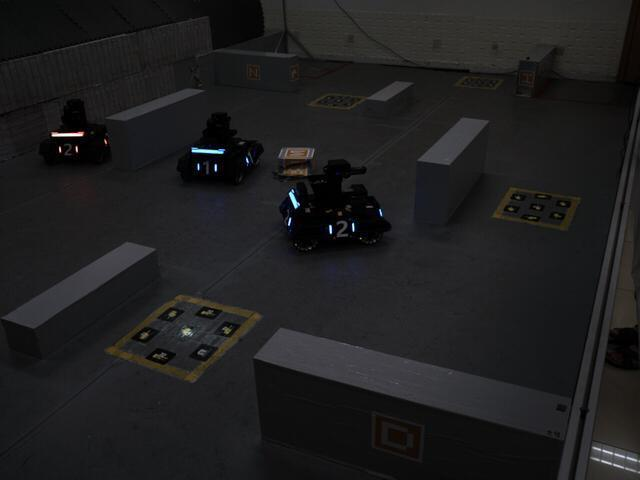armor: (325, 215, 358, 244), (192, 156, 222, 178), (54, 139, 80, 160), (240, 146, 257, 168)
